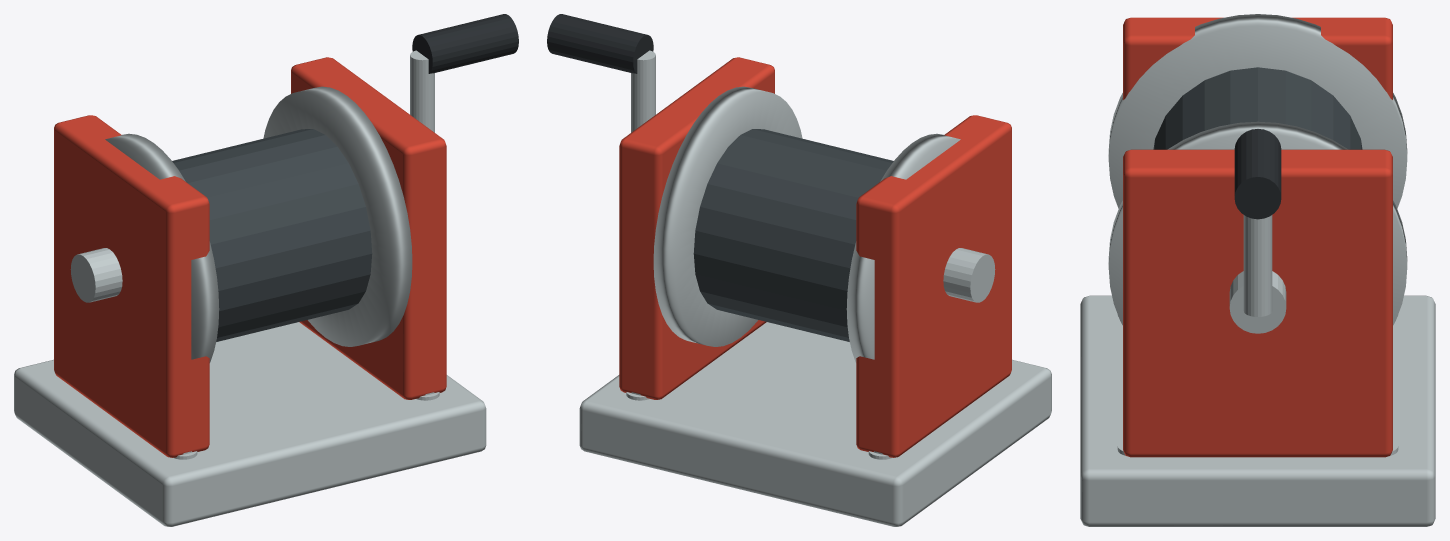
The model's file is broadcast-tower-and-relay-station-broadcast-tower-and--420ca40e__30273.glb.
The picture shows the model from 3 angles, left to right: view 1: azimuth 30°, elevation 25°; view 2: azimuth 150°, elevation 25°; view 3: azimuth 270°, elevation 25°; orthographic projection. The views are drawn at different scales.
Parts seen in each view (by area): view 1: broadcast-tower-and-relay-station-rescue-winch; view 2: broadcast-tower-and-relay-station-rescue-winch; view 3: broadcast-tower-and-relay-station-rescue-winch.
Boxes of the visible parts, x1,y1,x2,y2 form: broadcast-tower-and-relay-station-rescue-winch: (14,14,518,526); broadcast-tower-and-relay-station-rescue-winch: (547,14,1051,526); broadcast-tower-and-relay-station-rescue-winch: (1080,14,1435,526).
Bounding box in the file's own units: 0.79 × 0.633 × 0.5.
